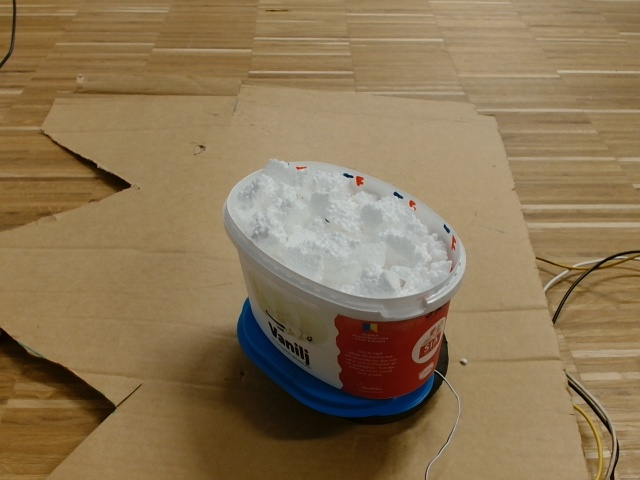Big_full: (222, 157, 469, 324)
